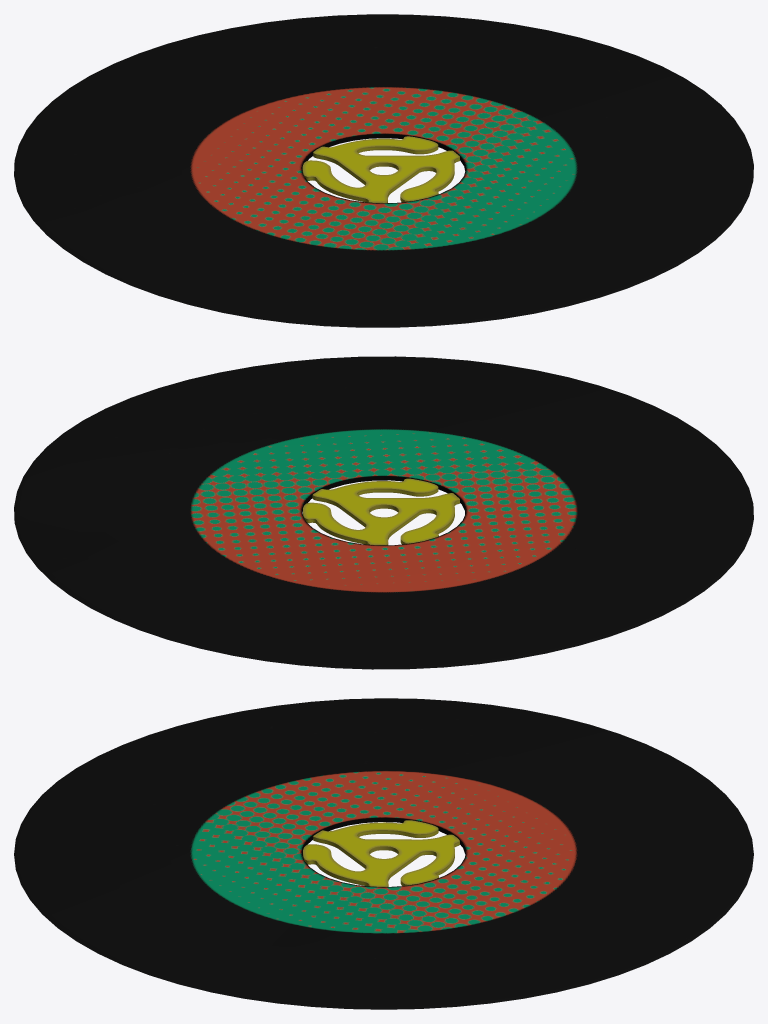
File: vinyl_single.glb
The picture shows the model from 3 angles, top to bottom: view 1: azimuth 30°, elevation 25°; view 2: azimuth 150°, elevation 25°; view 3: azimuth 270°, elevation 25°; orthographic projection.
Visible parts, largest first — view 1: RC_MeshAlt; view 2: RC_MeshAlt; view 3: RC_MeshAlt.
Part boxes in pixels (left/top/right/bottom): RC_MeshAlt: left=14, top=14, right=753, bottom=327; RC_MeshAlt: left=14, top=356, right=753, bottom=669; RC_MeshAlt: left=14, top=698, right=753, bottom=1009.
Size of the model in its own units: 3 by 0.0296 by 3.
2 materials, 2 textured.
